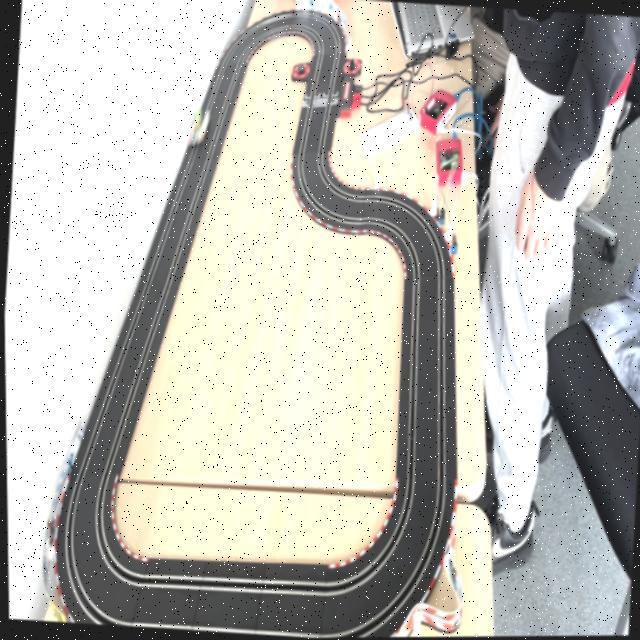yoshi: (184, 108, 214, 149)
